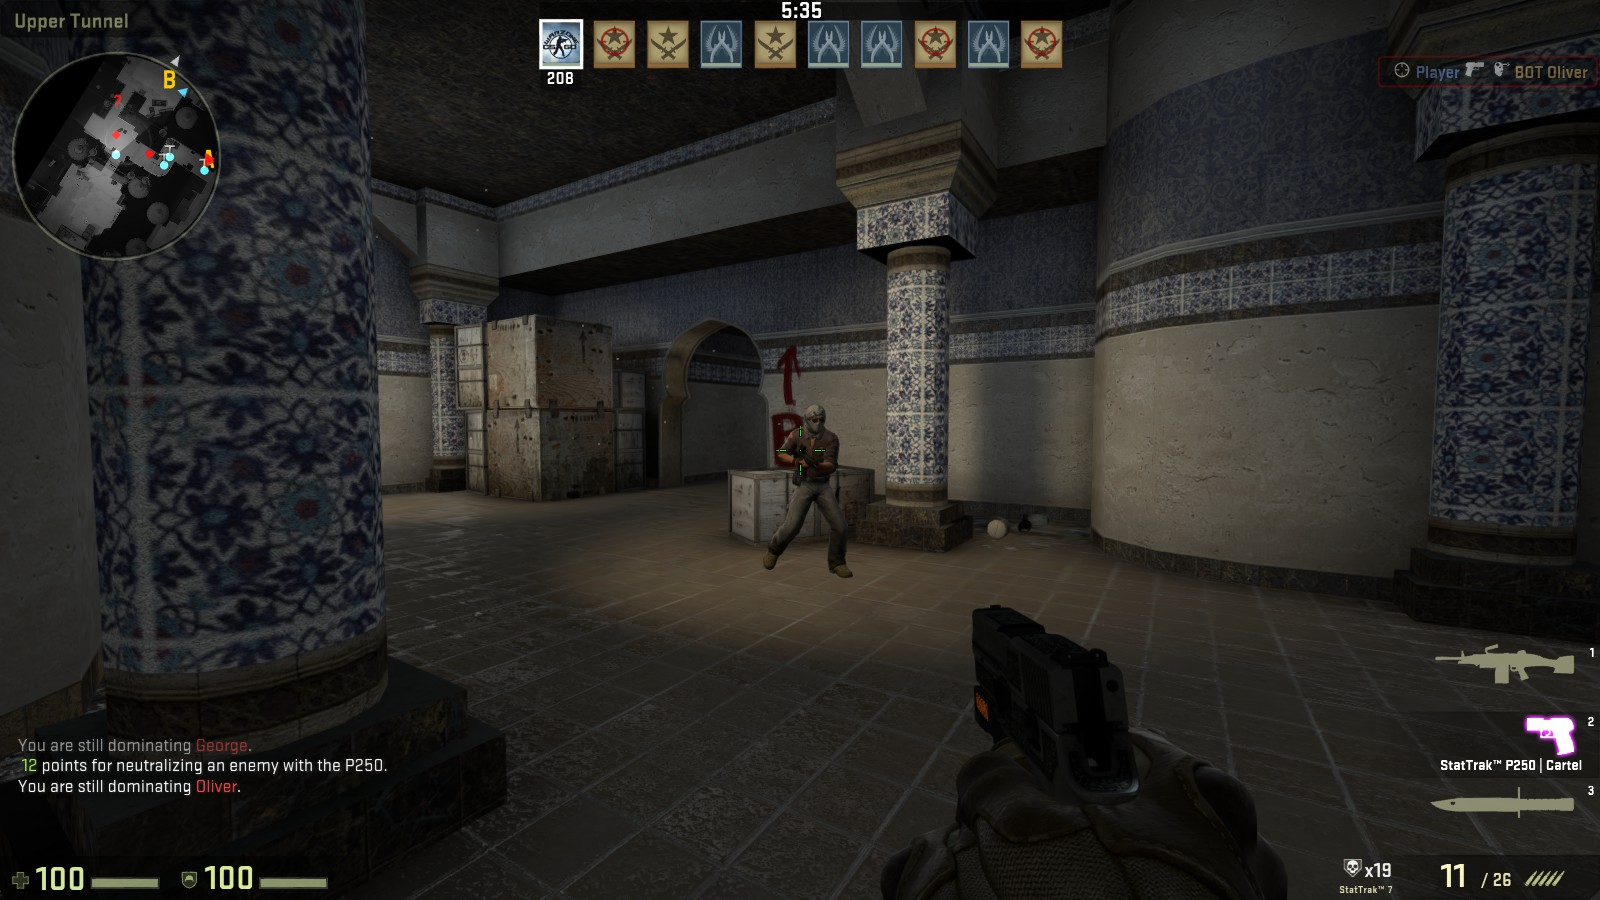t: (774, 404, 846, 575)
th: (803, 404, 827, 435)
